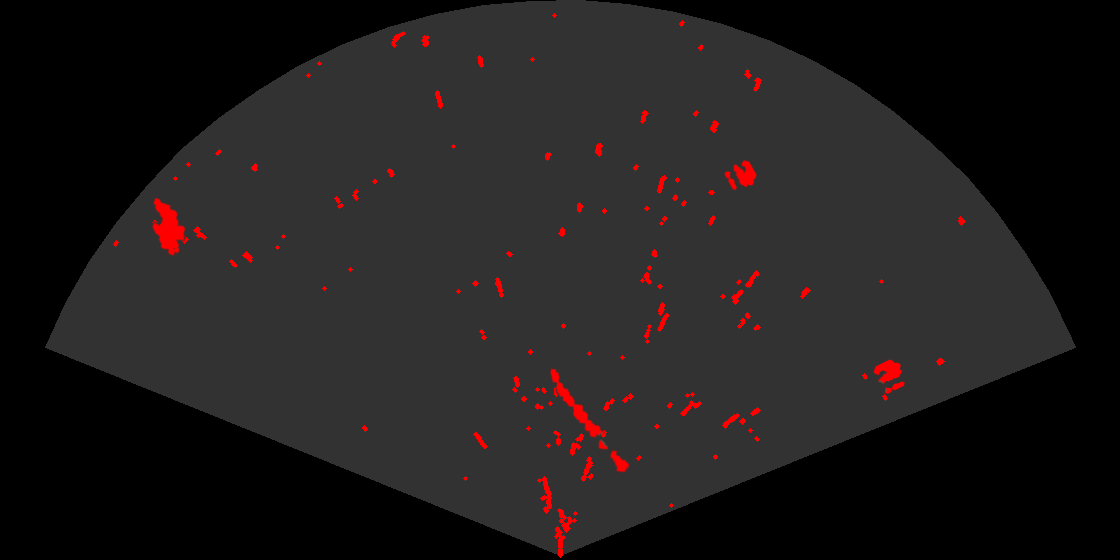AUV: (151, 196, 187, 258)
ball: (872, 358, 906, 395), (723, 158, 759, 192)
chain: (548, 367, 631, 474)
